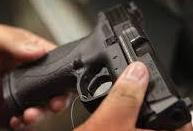gun: (1, 1, 193, 131)
